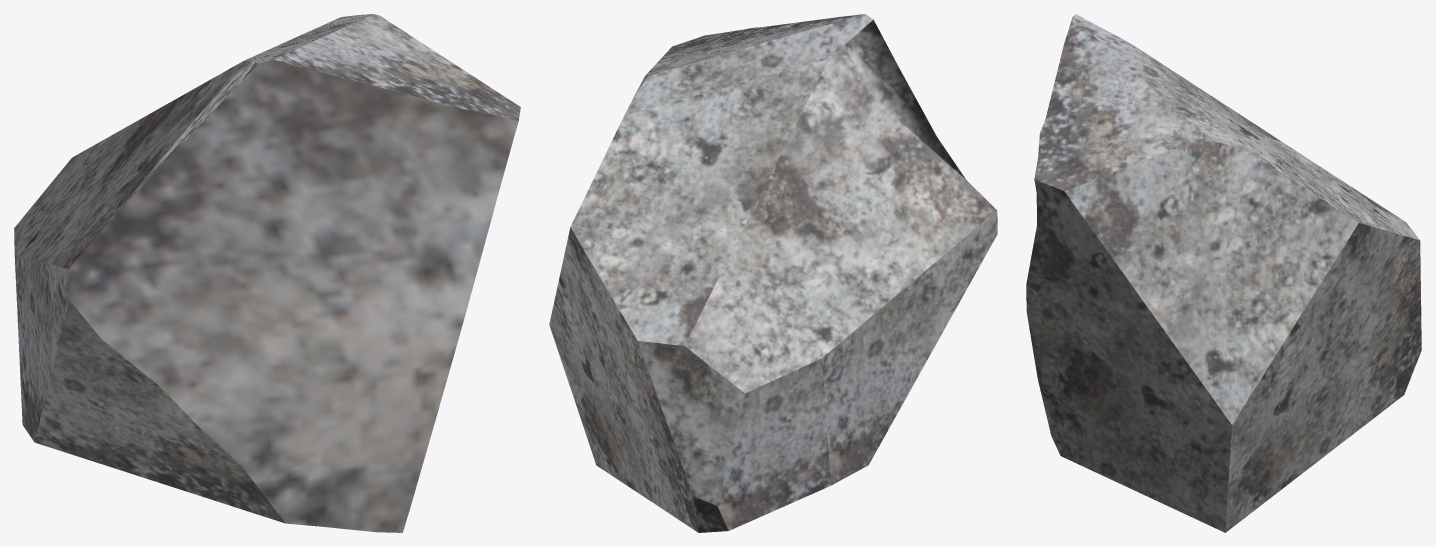
Rendered from Asteroid_Large_001_02_009_03_027.fbx.
The picture shows the model from 3 angles, left to right: view 1: azimuth 30°, elevation 25°; view 2: azimuth 150°, elevation 25°; view 3: azimuth 270°, elevation 25°; orthographic projection. The views are drawn at different scales.
Visible parts, largest first — view 1: Asteroid_Large_001_02_009_03_027; view 2: Asteroid_Large_001_02_009_03_027; view 3: Asteroid_Large_001_02_009_03_027.
Part boxes in pixels (x1,y1,x2,y2): Asteroid_Large_001_02_009_03_027: [14, 14, 520, 532]; Asteroid_Large_001_02_009_03_027: [549, 14, 997, 532]; Asteroid_Large_001_02_009_03_027: [1026, 14, 1421, 532].
Bounding box in the file's own units: 10.17 × 11.16 × 9.39.
